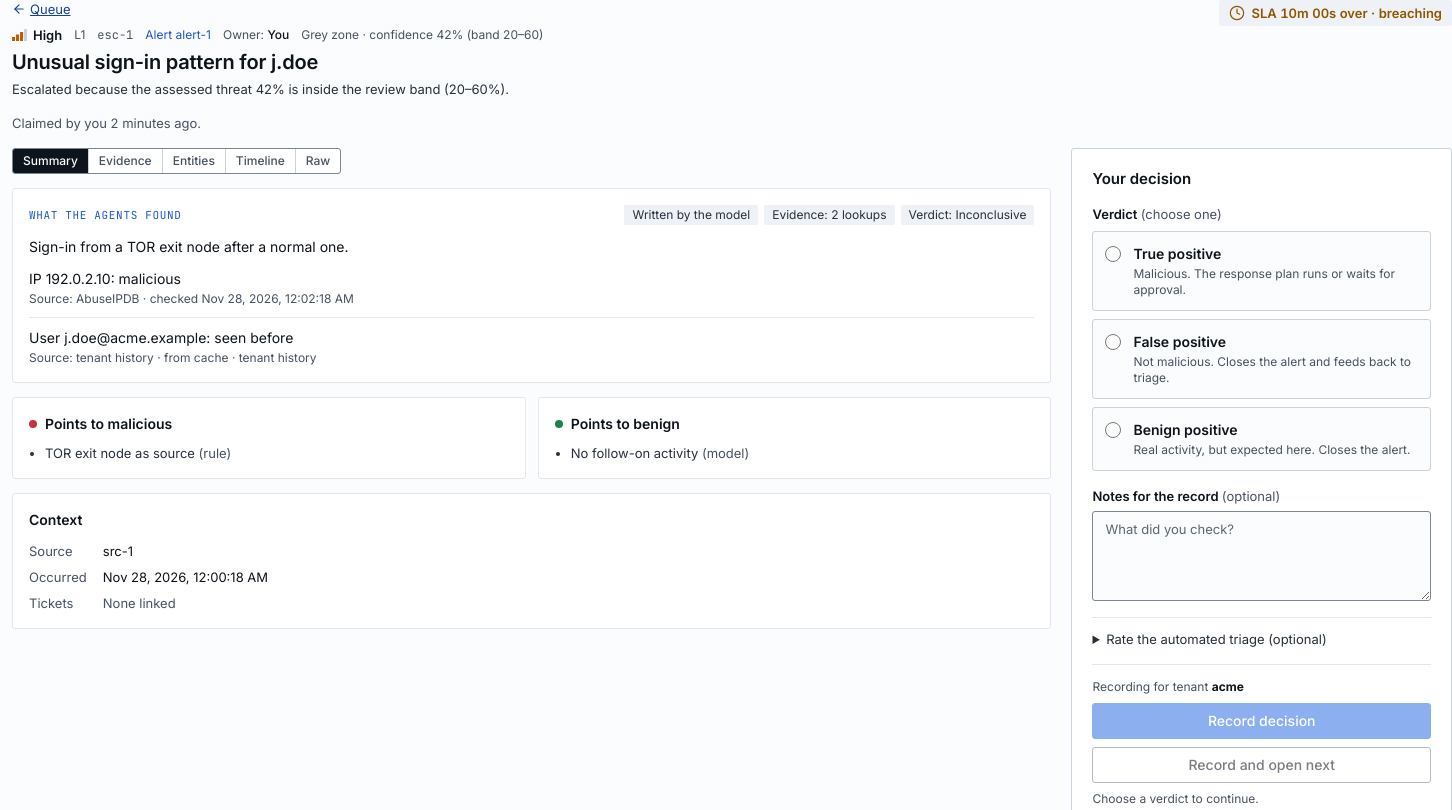
Test: decision form › returns to the queue when nothing else is waiting
Expected: the heading "Unusual sign-in pattern for j.doe" is shown, [12,50,318,74]
Step 1. Click the radio button labelled "Benign positive" → (1114, 430), box [1106,422,1122,438]
(page scrolled)
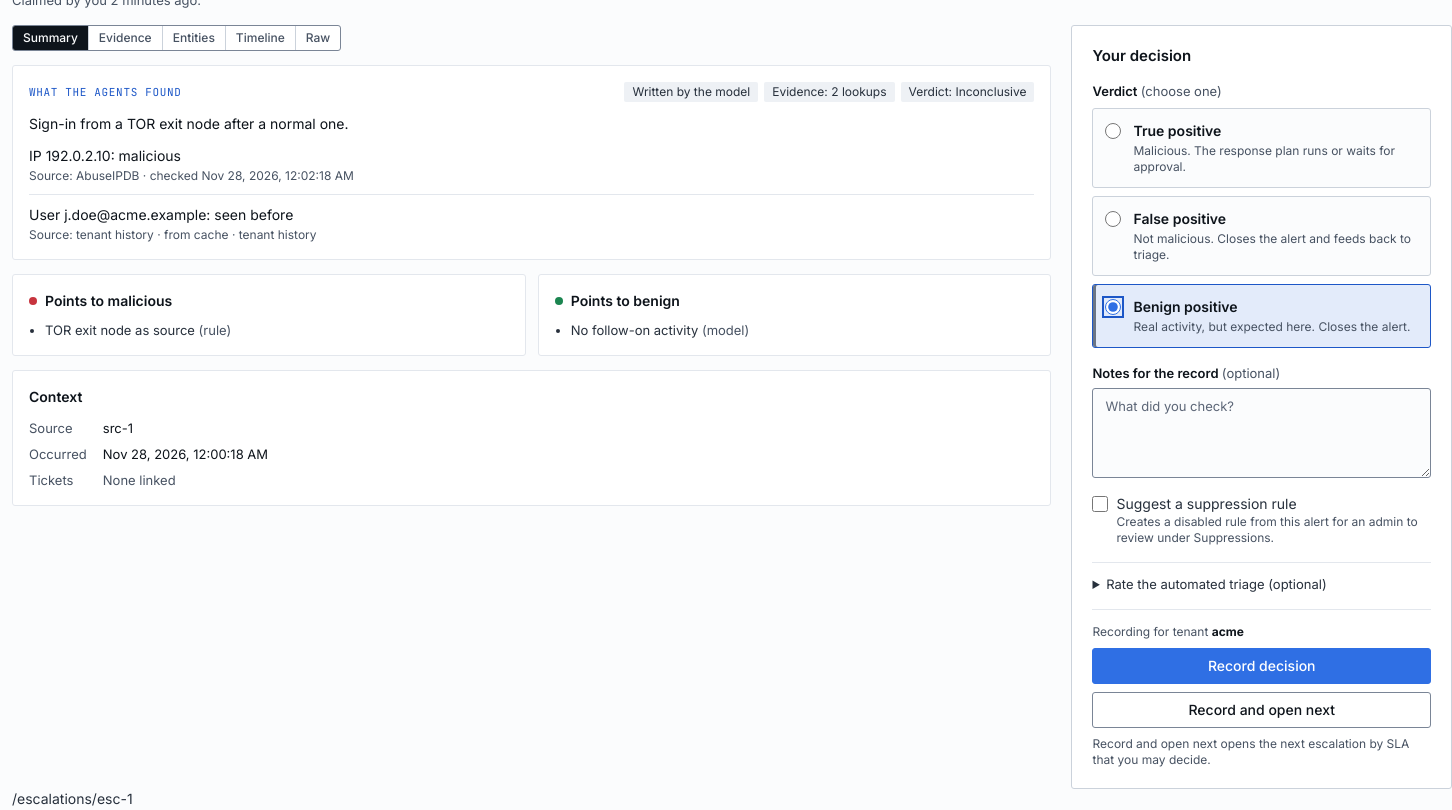
Step 2. Click the button "Record and open next" → (1262, 710), box [1092,692,1431,728]
(page scrolled)
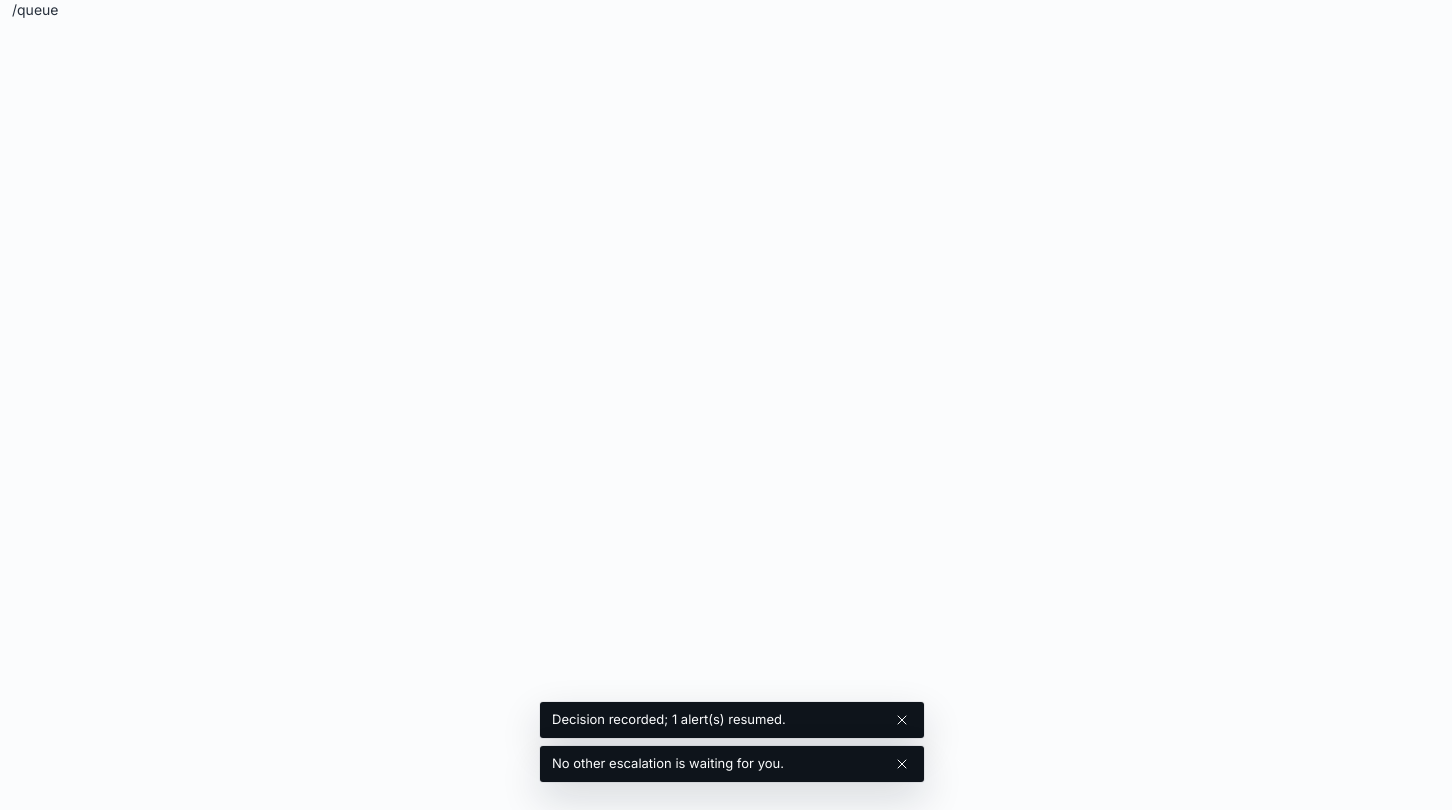
Result: the text "No other escalation is waiting for you." is shown at [552,755,784,771]
Result: the text with test id "location" reads "/queue" at [12,1,58,18]
